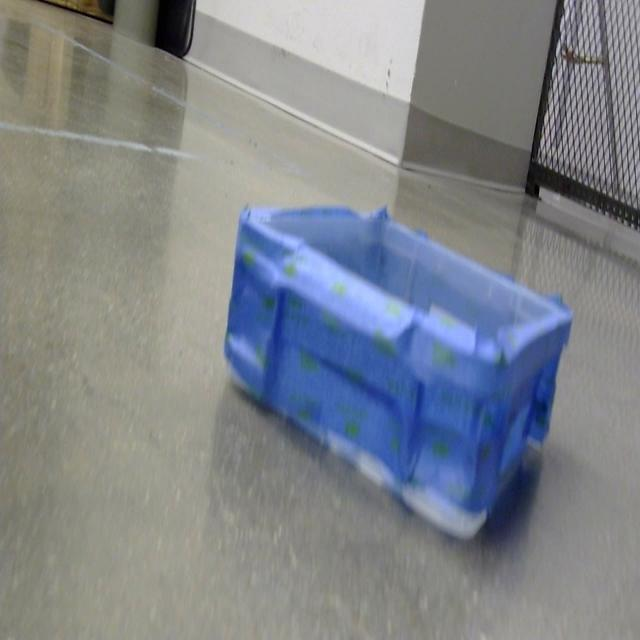bucket: (224, 206, 573, 546)
